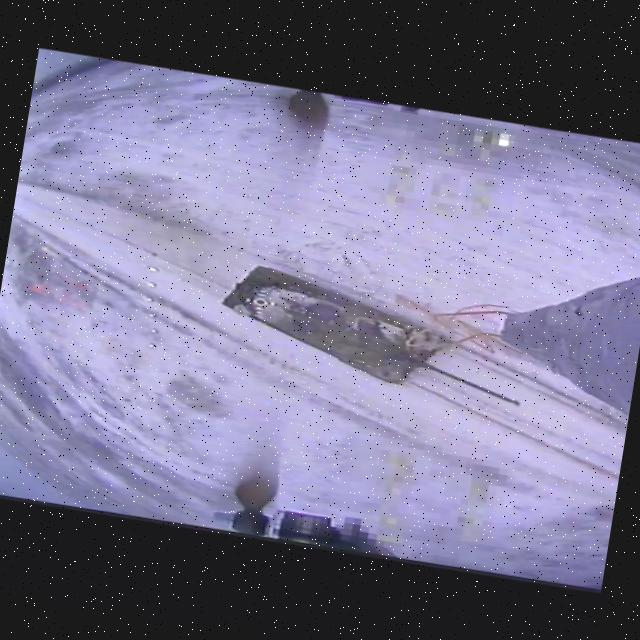MBT: (213, 256, 539, 410)
